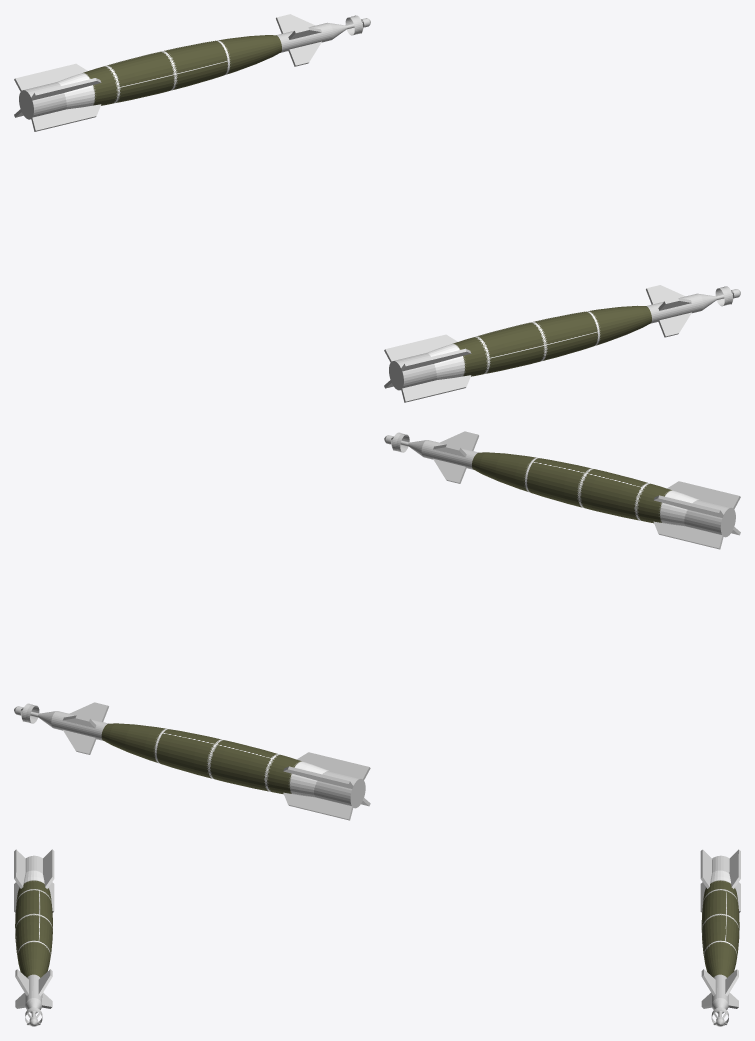
File: f18fgbu1015.glb
The picture shows the model from 3 angles, top to bottom: view 1: azimuth 30°, elevation 25°; view 2: azimuth 150°, elevation 25°; view 3: azimuth 270°, elevation 25°; orthographic projection. The views are drawn at different scales.
Visible parts, largest first — view 1: 球.015, 球.001; view 2: 球.001, 球.015; view 3: 球.015, 球.001.
Part boxes in pixels (x1=…): 球.015: x1=14, y1=14, x2=370, y2=131; 球.001: x1=384, y1=285, x2=740, y2=402; 球.001: x1=384, y1=431, x2=740, y2=549; 球.015: x1=14, y1=702, x2=370, y2=820; 球.015: x1=700, y1=849, x2=740, y2=1026; 球.001: x1=14, y1=849, x2=54, y2=1026.
Size of the model in its own units: 4.24 by 0.4634 by 8.33.
Materials: 1 (1 with a texture image).
